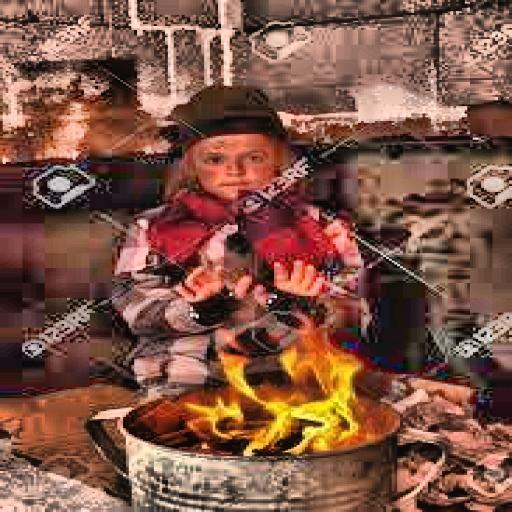fire: (134, 307, 412, 456)
